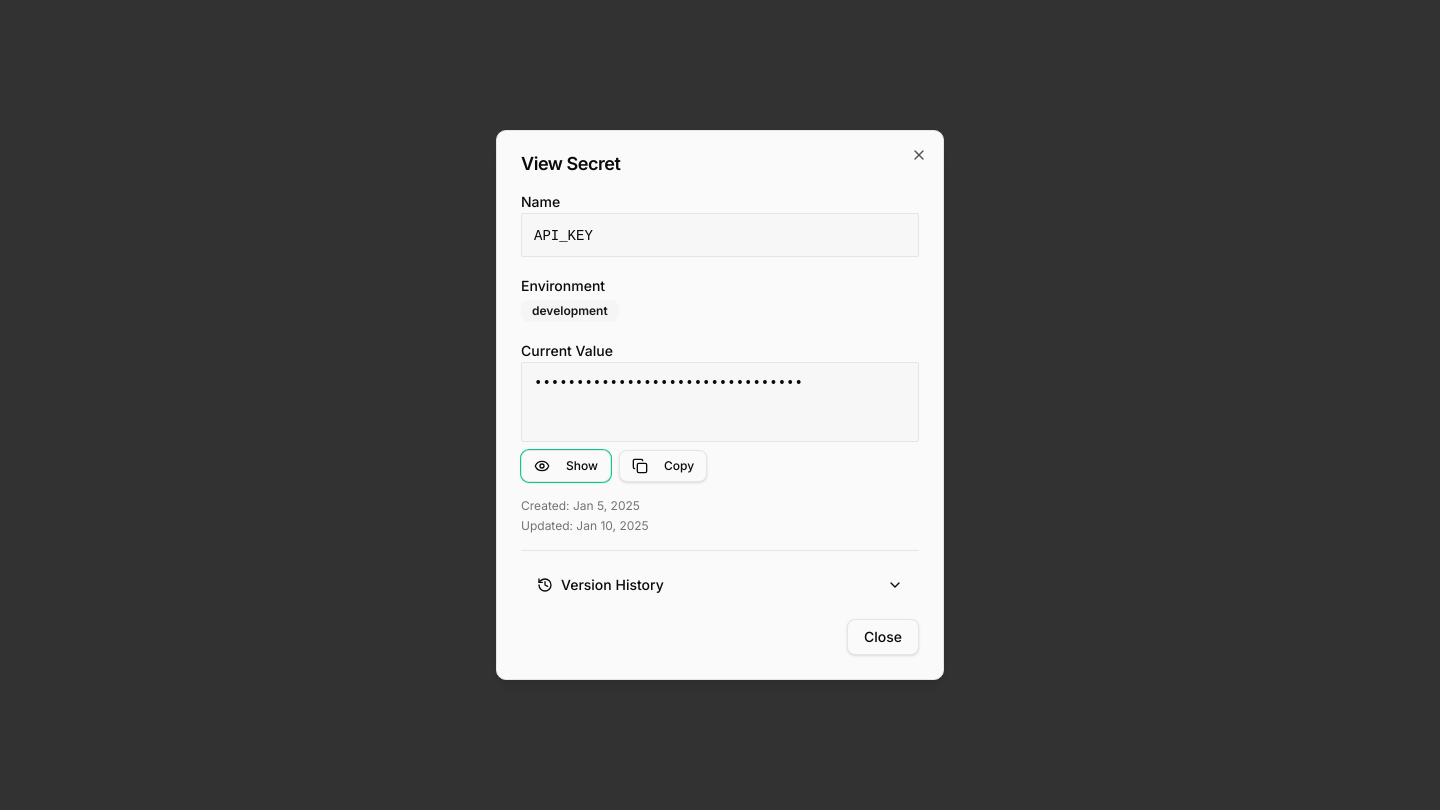
it: ViewSecretModal › version history › should fetch and display versions when toggle clicked
This screenshot has width=1440, height=810.
Click the button "Version History": [612, 584] box 521,567 -> 919,603
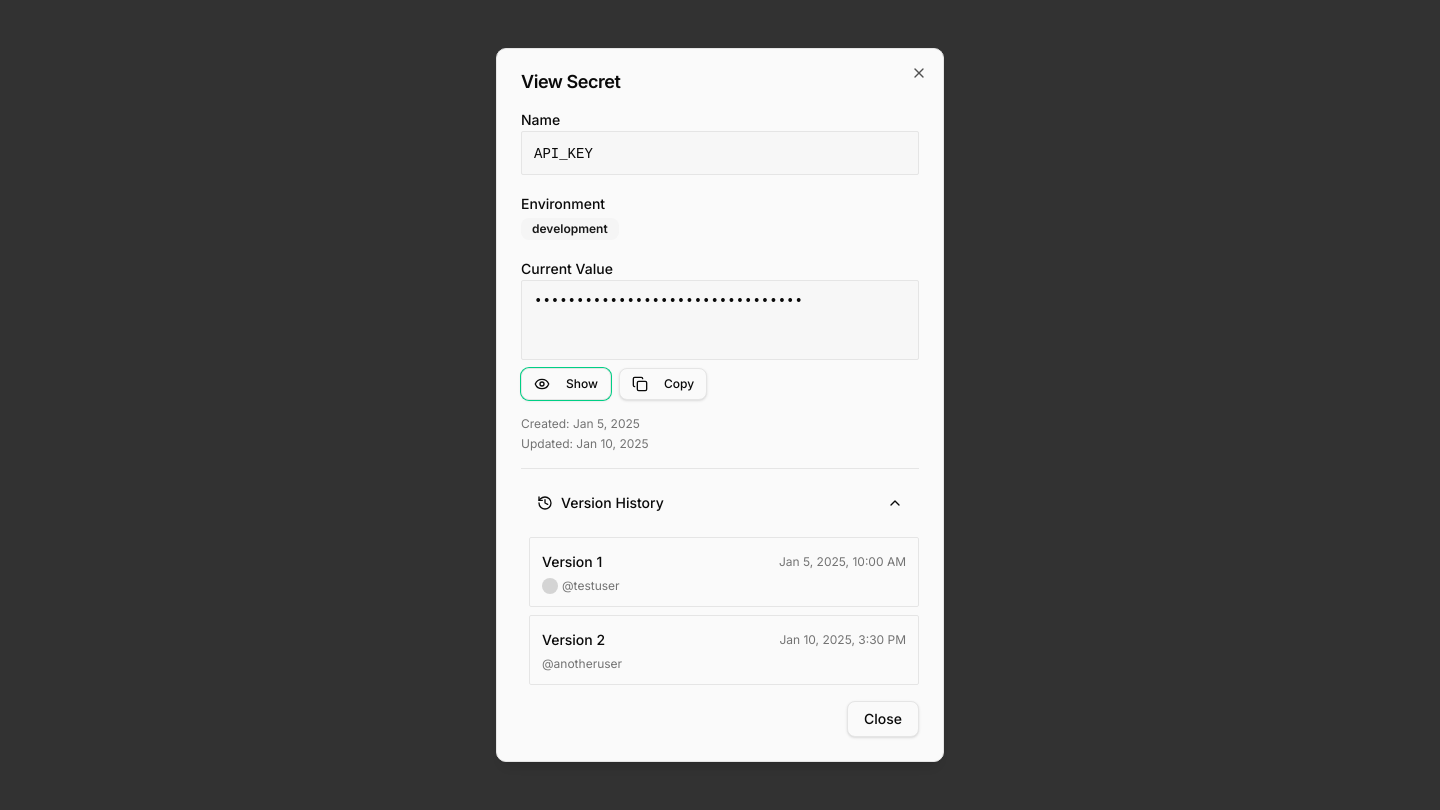
Result: the text "Version 1" is shown at 542,550 -> 602,574
Result: the text "Version 2" is shown at 542,628 -> 605,652
